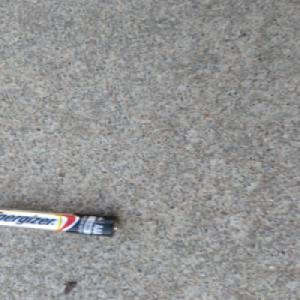Battery: (0, 207, 119, 238)
